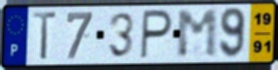3: (108, 11, 135, 58)
7: (65, 11, 95, 60)
9: (218, 6, 247, 61)
M: (175, 8, 219, 61)
P: (138, 8, 175, 61)
T: (31, 10, 59, 62)
